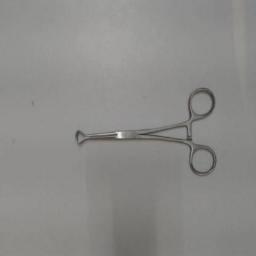Babcock Tissue Forceps: (72, 84, 218, 180)
